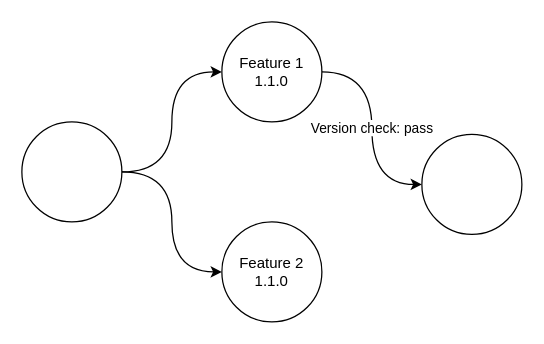
Image size: 544x344. Some labels were removed from this diagram. The shapes that lost their labels are listed below. From the top down, each one's centre as x and y in pixels, then its label:
At pixel 71 171: "Main 1.0.0".
At pixel 471 183: "Main 1.1.0".
